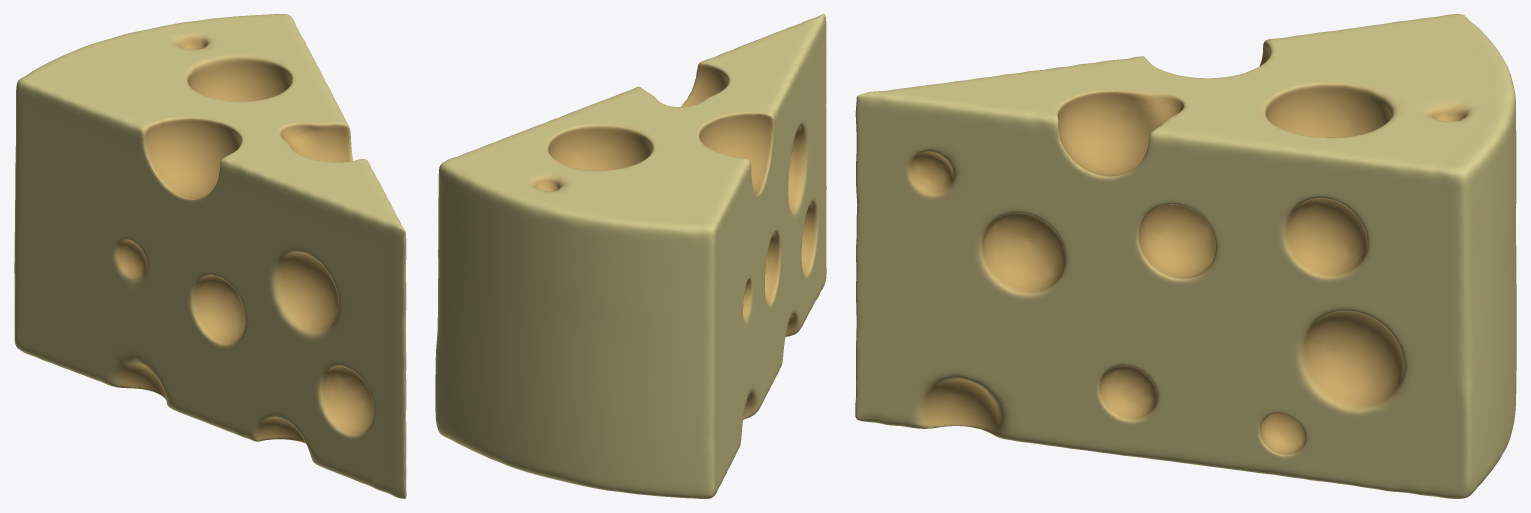
Rendered from cheese.glb.
3 views of the same model, side by side, from view 1: azimuth 30°, elevation 25°; view 2: azimuth 150°, elevation 25°; view 3: azimuth 270°, elevation 25° (orthographic). The views are drawn at different scales.
Visible parts, largest first — view 1: Object_2; view 2: Object_2; view 3: Object_2.
Boxes of the visible parts, left/top/right/bottom form: Object_2: left=14, top=14, right=406, bottom=498; Object_2: left=435, top=14, right=826, bottom=498; Object_2: left=855, top=14, right=1516, bottom=498.
Size of the model in its own units: 1.16 by 1.1 by 1.99.
